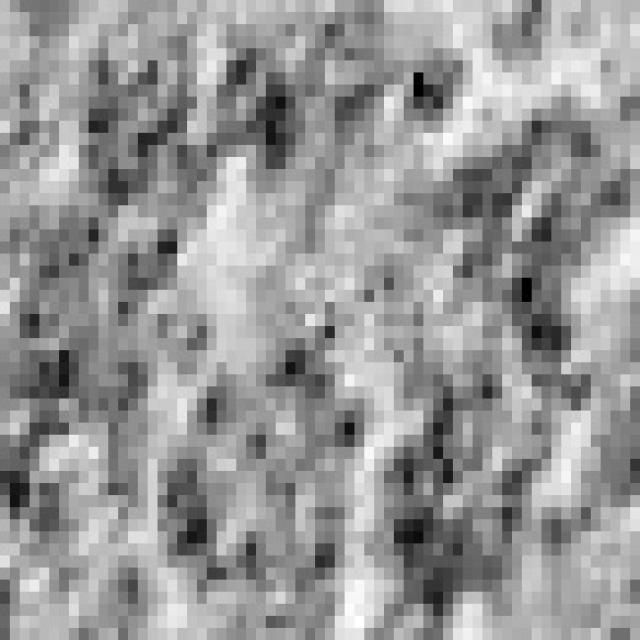inner: (250, 171, 476, 416)
lobe: (11, 191, 224, 529), (423, 85, 633, 416), (155, 338, 374, 640), (373, 366, 554, 630), (208, 2, 477, 175), (76, 7, 230, 245)
outer: (0, 0, 640, 640)
